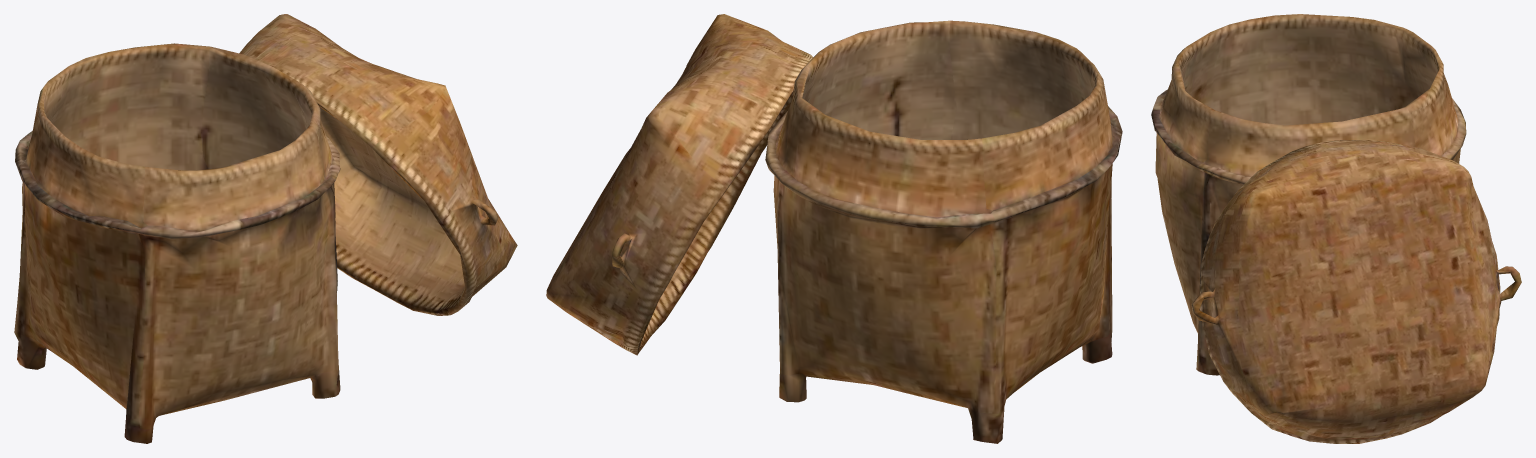
Rendered from wicker_basket_02.glb.
3 renders of one model, left to right at view 1: azimuth 30°, elevation 25°; view 2: azimuth 150°, elevation 25°; view 3: azimuth 270°, elevation 25°, orthographic. The views are drawn at different scales.
Visible parts, largest first — view 1: wicker_basket_02_base, wicker_basket_02_lid; view 2: wicker_basket_02_base, wicker_basket_02_lid; view 3: wicker_basket_02_lid, wicker_basket_02_base.
Part boxes in pixels (x1,y1,x2,y2): wicker_basket_02_base: (14,43,340,443); wicker_basket_02_lid: (239,14,517,315); wicker_basket_02_base: (765,20,1122,443); wicker_basket_02_lid: (546,14,813,355); wicker_basket_02_lid: (1191,140,1521,443); wicker_basket_02_base: (1151,14,1466,375).
Bounding box in the file's own units: 0.3469 × 0.2005 × 0.2544.
1 material, 1 textured.
